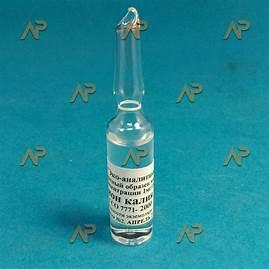Syringe: (103, 3, 157, 247)
